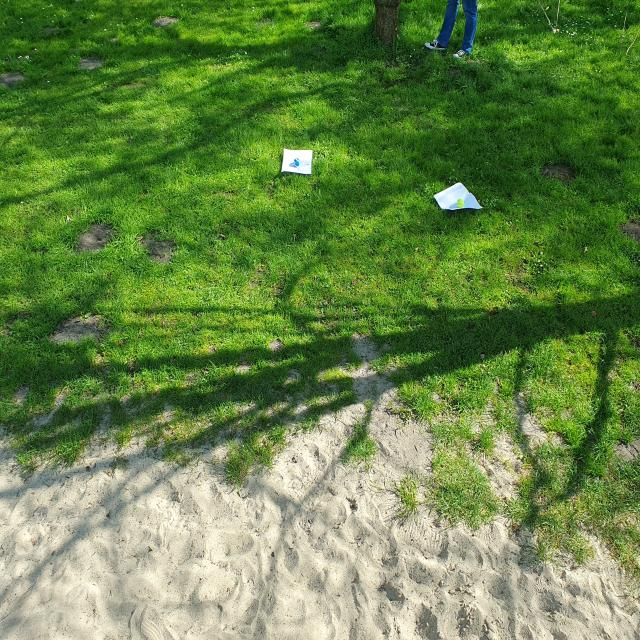blue: (294, 158, 300, 167)
green: (457, 198, 464, 208)
